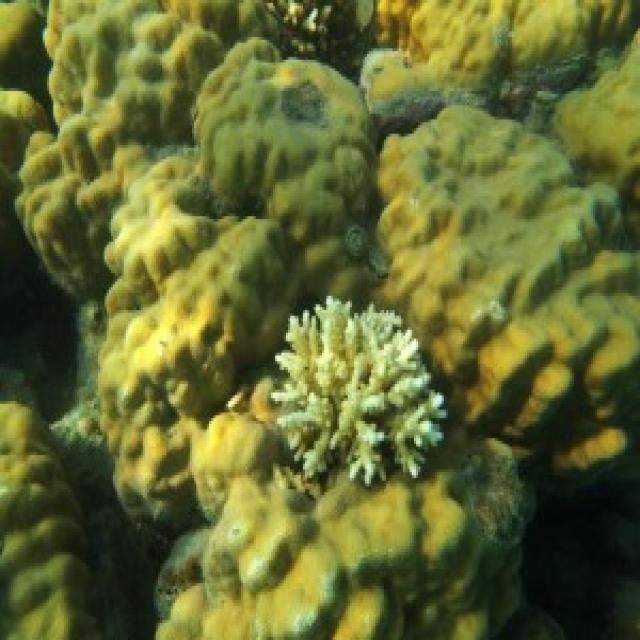Bleached: (263, 291, 452, 489), (515, 44, 632, 99), (370, 87, 558, 121), (303, 573, 347, 640), (362, 49, 401, 85), (473, 300, 509, 327), (243, 558, 272, 590), (495, 30, 512, 53)
Healthy: (1, 1, 640, 640)
